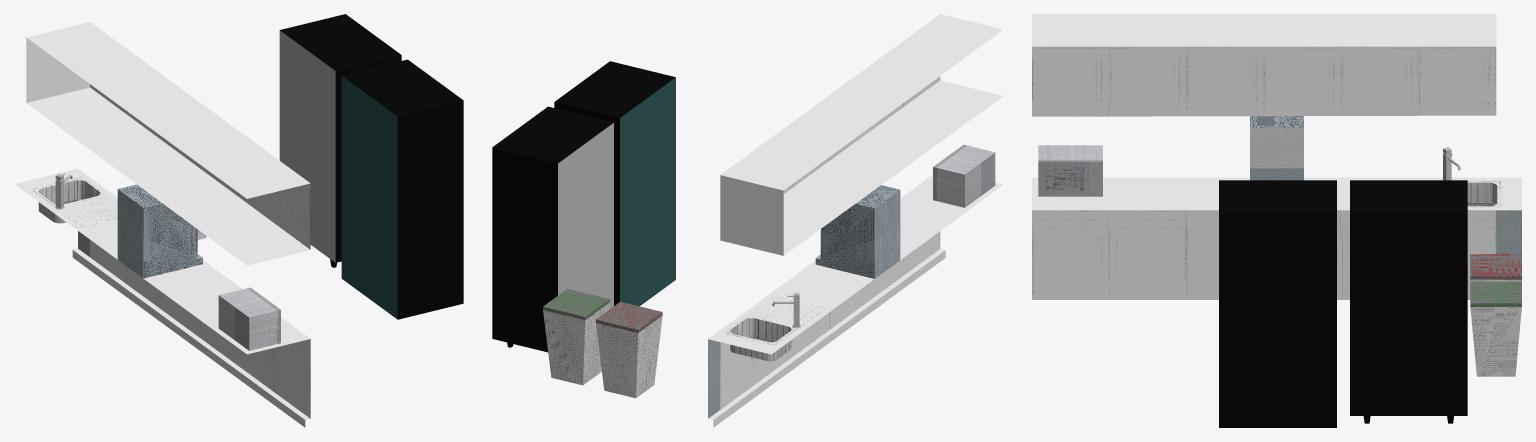
The model's file is kitchen.fbx.
3 views of the same model, side by side, from view 1: azimuth 30°, elevation 25°; view 2: azimuth 150°, elevation 25°; view 3: azimuth 270°, elevation 25° (orthographic). The views are drawn at different scales.
Visible parts, largest first — view 1: Group1, Pop_Machine1, Snack_Machine1, coffee_machine1, Group2; view 2: Group1, Snack_Machine1, Pop_Machine1, coffee_machine1, Group2; view 3: Group1, Pop_Machine1, Snack_Machine1, coffee_machine1, Group2.
Part boxes in pixels (bbox=[...]): Group1: bbox=[14, 22, 310, 427]; Pop_Machine1: bbox=[341, 59, 463, 319]; Snack_Machine1: bbox=[279, 14, 401, 267]; coffee_machine1: bbox=[117, 184, 202, 278]; Group2: bbox=[218, 287, 280, 350]; Group1: bbox=[543, 14, 1003, 427]; Snack_Machine1: bbox=[492, 106, 613, 352]; Pop_Machine1: bbox=[554, 61, 675, 306]; coffee_machine1: bbox=[815, 185, 900, 278]; Group2: bbox=[933, 144, 995, 207]; Group1: bbox=[1032, 14, 1521, 376]; Pop_Machine1: bbox=[1219, 180, 1336, 427]; Snack_Machine1: bbox=[1350, 180, 1467, 423]; coffee_machine1: bbox=[1250, 116, 1303, 180]; Group2: bbox=[1038, 145, 1102, 196].
Bounding box in the file's own units: 2.88 × 2.2 × 3.8.
